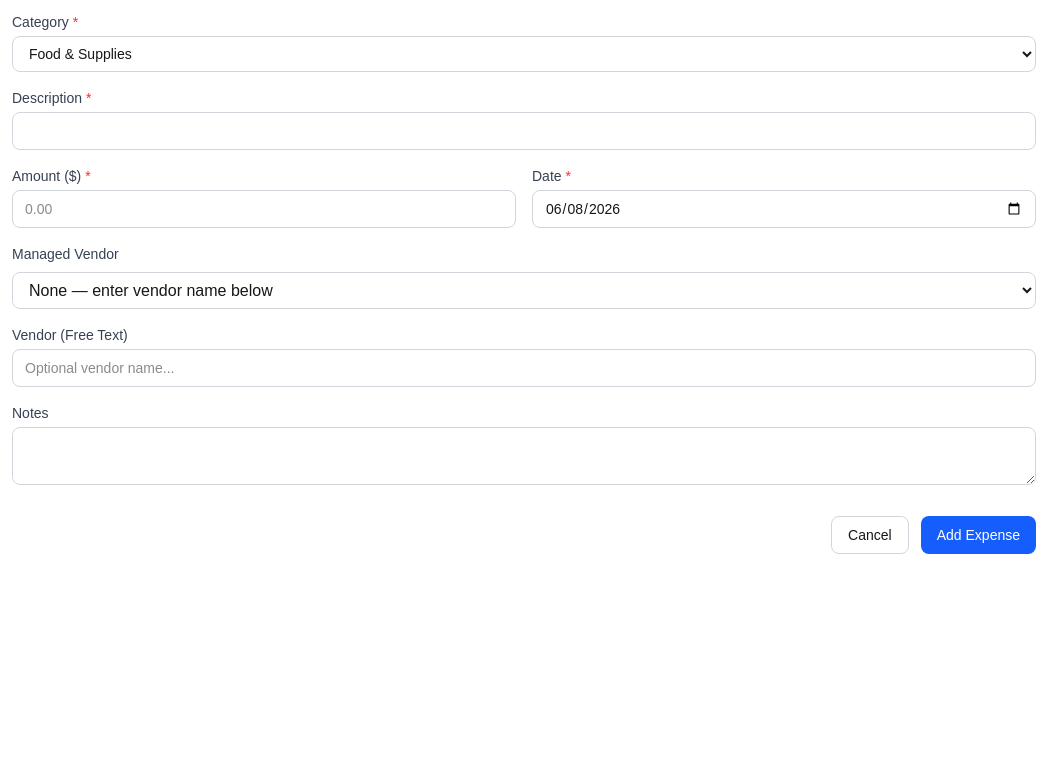
Test: ExpenseForm › validation › clears field error when user types in that field
The width and height of the screenshot is (1048, 780).
# Trigger validation
Type "100.00" into the field labelled "Amount ($) *". click: {"x": 264, "y": 209}
box: [12,190,516,228]
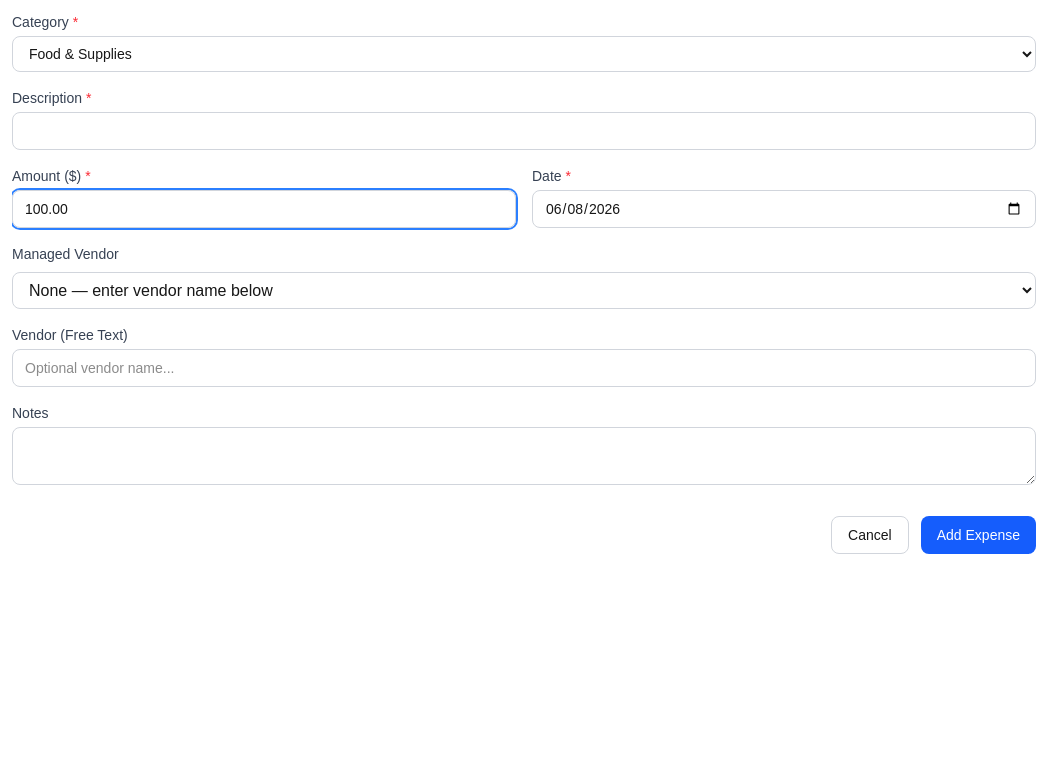
Click the button "Add Expense". click: {"x": 978, "y": 535}
box: [921,516,1036,554]
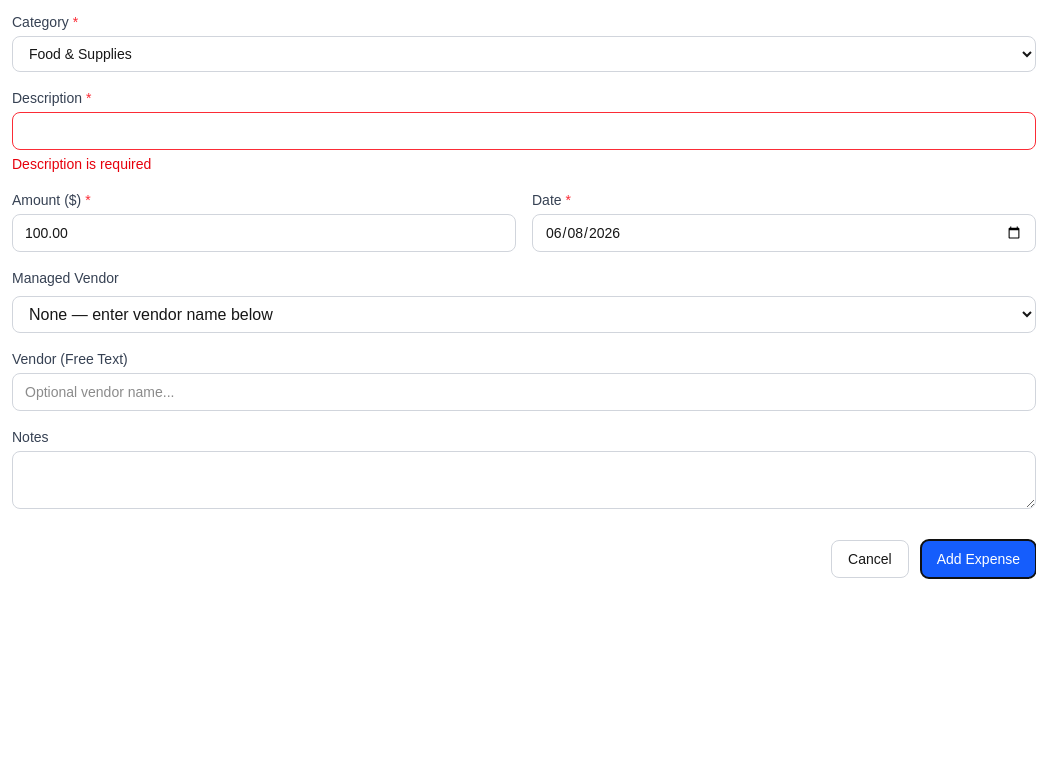
Result: the text "Description is required" is shown at [12,156,151,172]
# Type in the field
Type "F" into the field labelled "Description *". click: {"x": 524, "y": 131}
box: [12,112,1036,150]
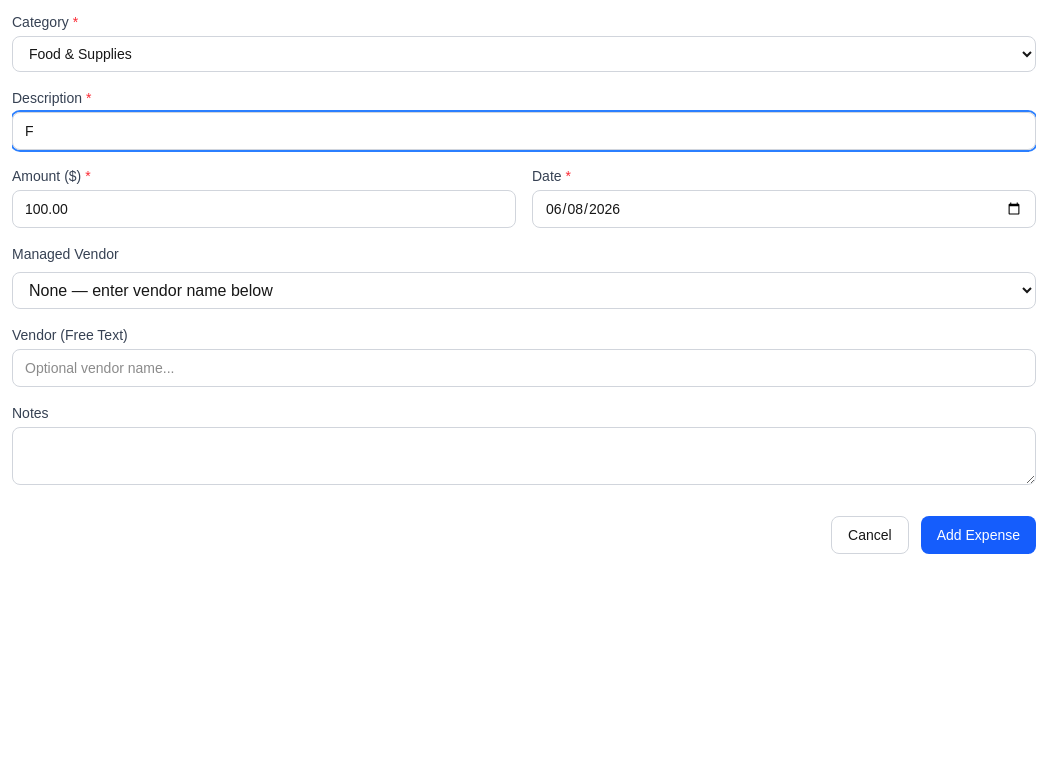
Result: the text "Description is required" is gone
